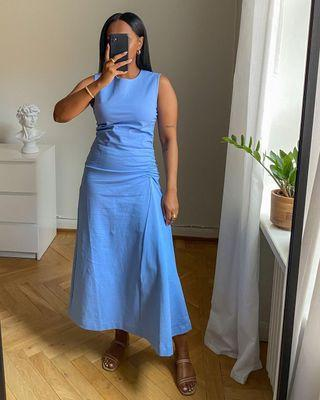dress: (68, 69, 192, 358)
